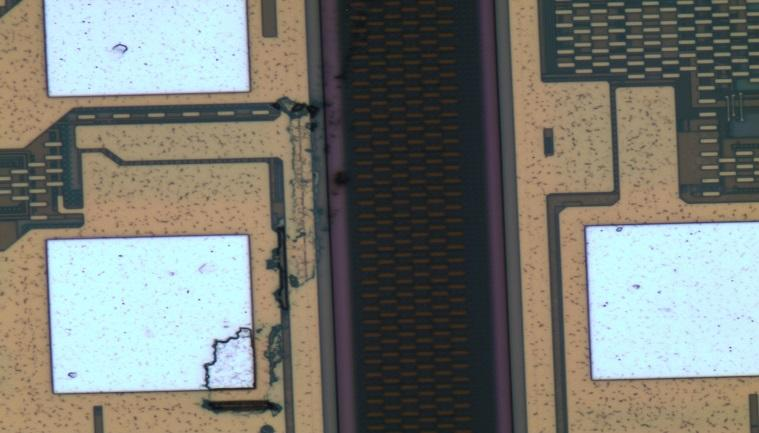SCRATCH: (192, 80, 336, 425)
